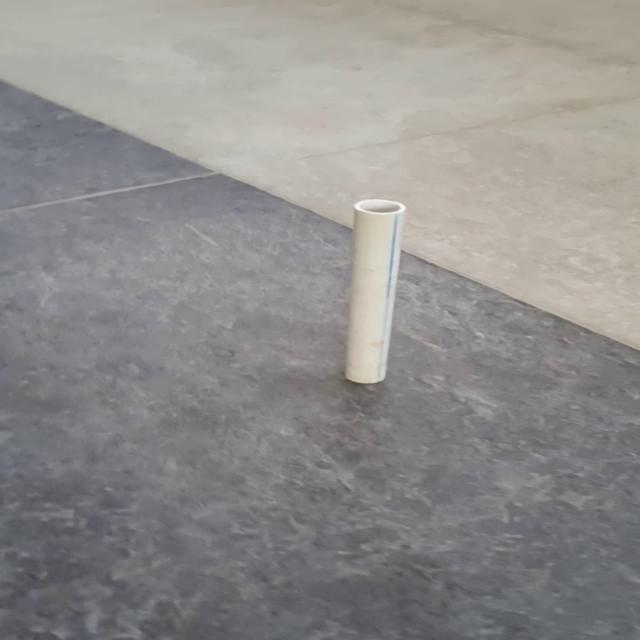Cube: (342, 198, 406, 384)
